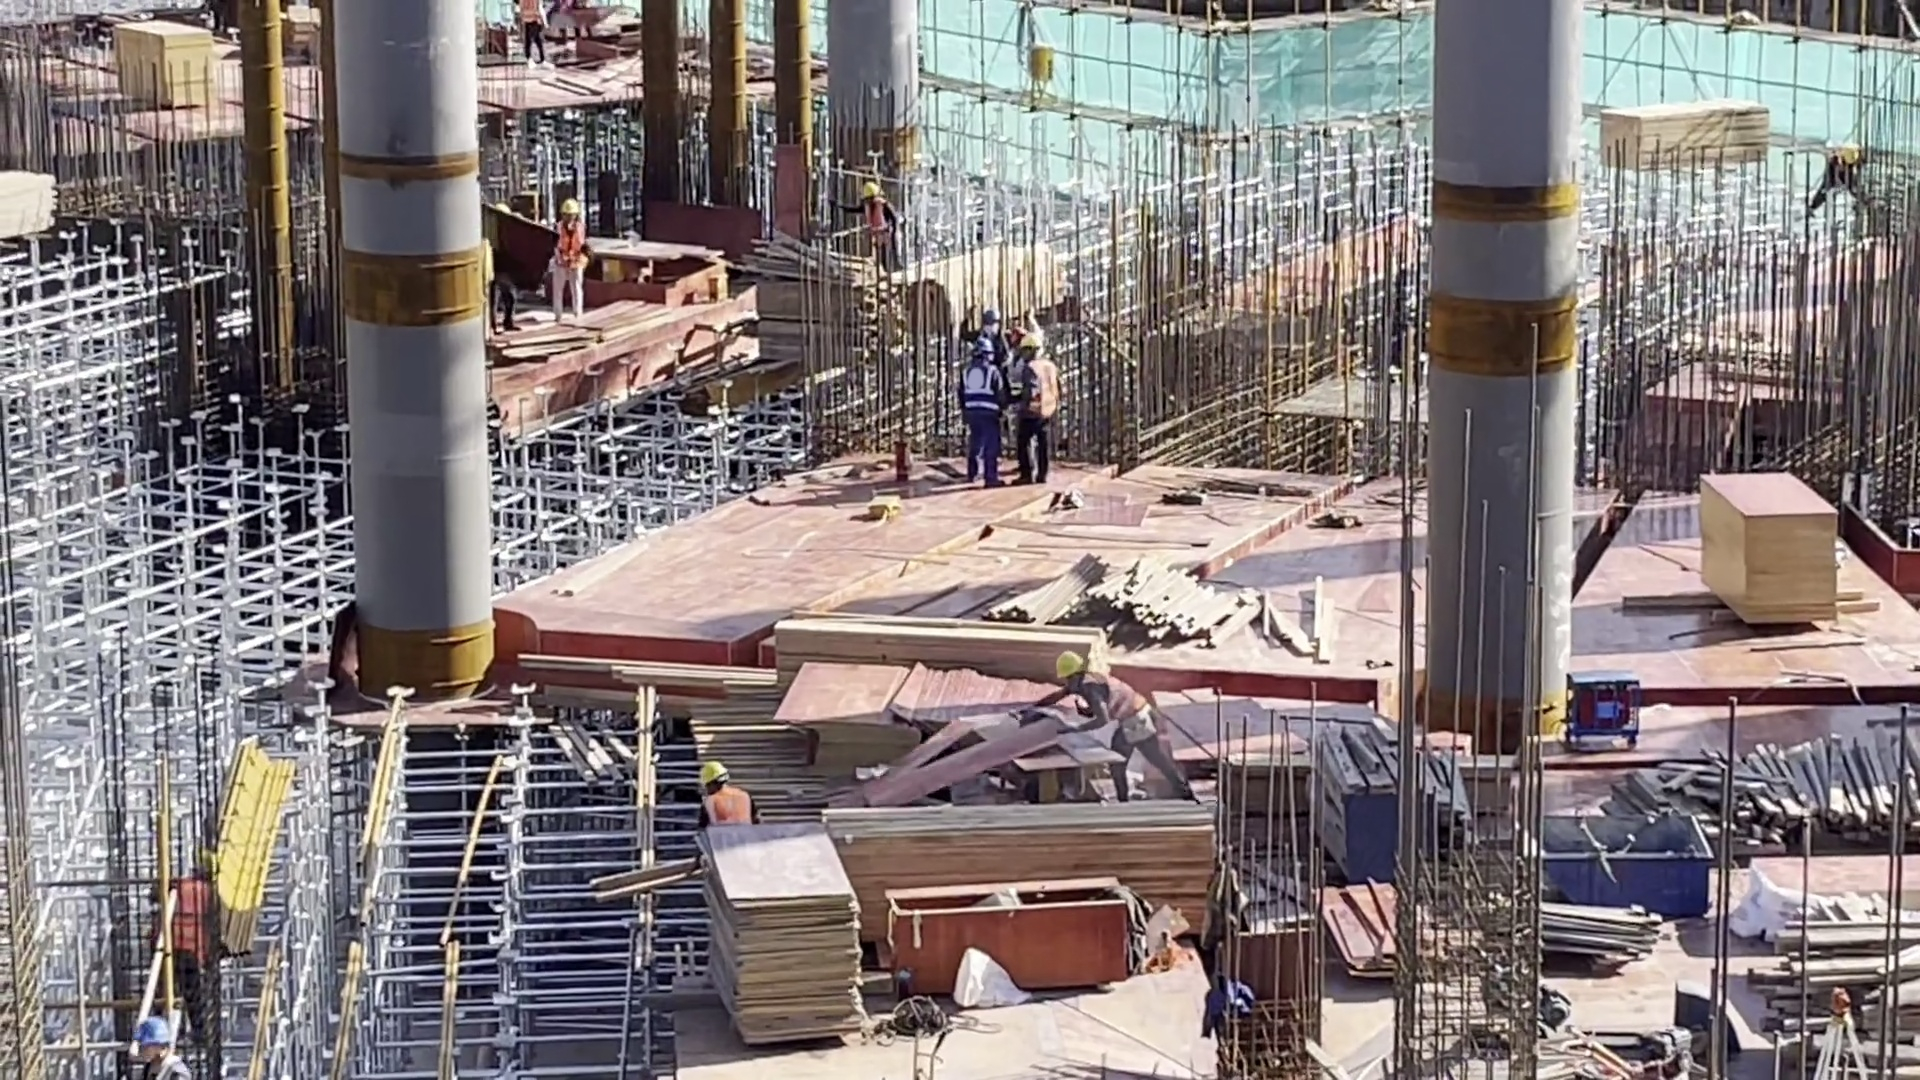board: (697, 822, 861, 1049), (1697, 467, 1839, 630), (786, 665, 920, 783), (115, 20, 216, 108), (1320, 880, 1402, 983)
cutter: (942, 704, 1117, 808), (593, 234, 730, 311)
ebox: (1028, 42, 1057, 104)
helmet: (1053, 649, 1085, 683), (699, 757, 729, 788), (138, 1021, 169, 1048), (1016, 335, 1042, 356), (855, 181, 882, 201), (560, 198, 583, 216), (981, 305, 1000, 327), (974, 339, 994, 354)
hopper: (1537, 813, 1714, 922)
person: (1025, 650, 1199, 804), (165, 852, 221, 1007), (826, 177, 905, 277), (957, 339, 1006, 493), (1015, 335, 1062, 485), (1807, 135, 1883, 220), (548, 196, 593, 323), (696, 758, 757, 828), (133, 1013, 194, 1080), (956, 302, 1006, 346), (516, 1, 548, 67)
vest: (1088, 671, 1147, 729), (961, 363, 1001, 421), (1026, 361, 1060, 424), (551, 219, 587, 272), (706, 788, 752, 822), (863, 198, 889, 234)
wood: (1607, 731, 1920, 860), (985, 556, 1337, 663), (1747, 893, 1920, 1080), (821, 802, 1220, 879), (774, 608, 1110, 683), (746, 238, 881, 377), (907, 243, 1071, 336), (1596, 98, 1771, 167), (1, 170, 58, 242)
